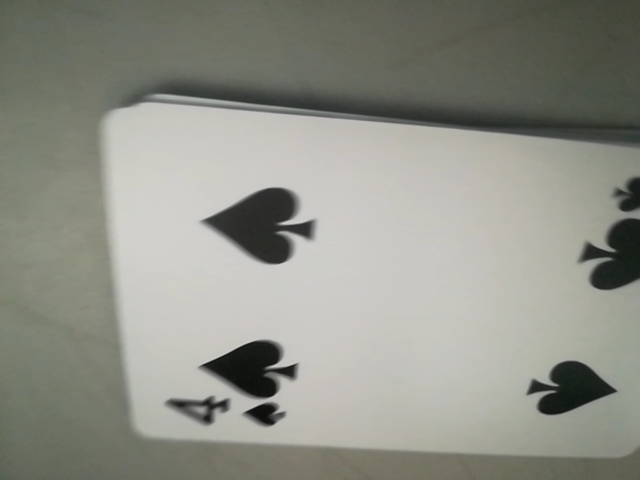ht 4: (147, 389, 293, 438)
